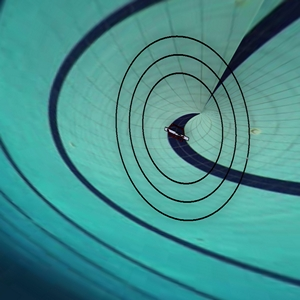circle: (111, 29, 258, 231)
submarine: (157, 116, 201, 152)
